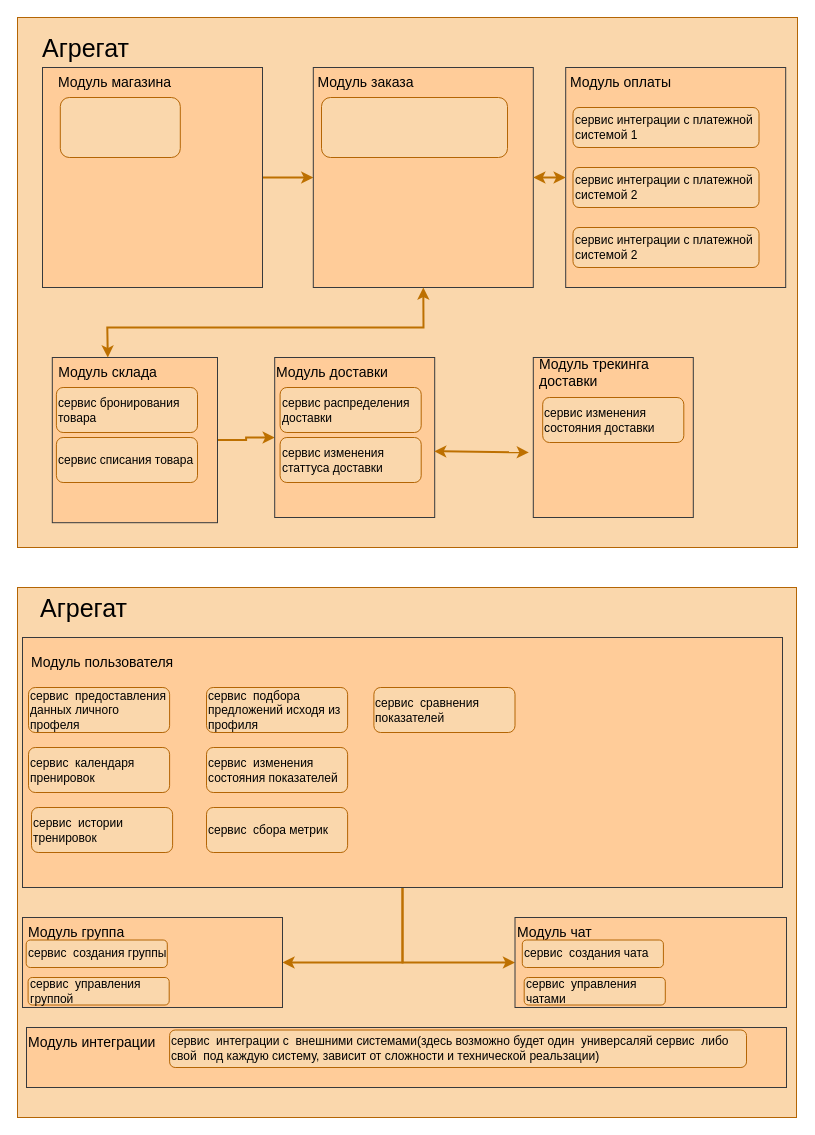
Image size: 815x1135. Some labels were removed from this diagram. The shapes that lost their labels are listed below. From the top down, each one's box as (x1, y1, x2, y2) in pixels, then its label:
(59, 96, 180, 158): сервис выбора товара
(320, 96, 508, 158): сервис добавления, изменения, удаления товара в корзину
